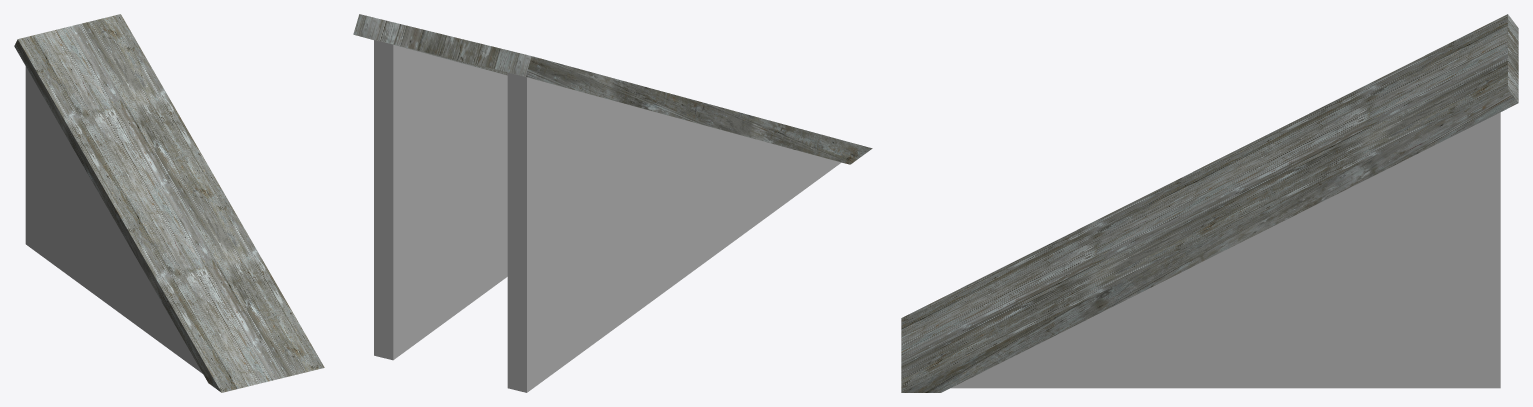
The model's file is Shed1.fbx.
3 views of the same model, side by side, from view 1: azimuth 30°, elevation 25°; view 2: azimuth 150°, elevation 25°; view 3: azimuth 270°, elevation 25° (orthographic). The views are drawn at different scales.
Parts seen in each view (by area): view 1: shedRoof, shedWalls; view 2: shedWalls, shedRoof; view 3: shedWalls, shedRoof.
Boxes of the visible parts, x1=… form: shedRoof: x1=14, y1=14, x2=324, y2=392; shedWalls: x1=25, y1=66, x2=202, y2=373; shedWalls: x1=374, y1=40, x2=840, y2=392; shedRoof: x1=353, y1=14, x2=872, y2=164; shedWalls: x1=951, y1=112, x2=1500, y2=388; shedRoof: x1=901, y1=14, x2=1518, y2=392.
Bounding box in the file's own units: 2.76 × 5.23 × 9.62.
